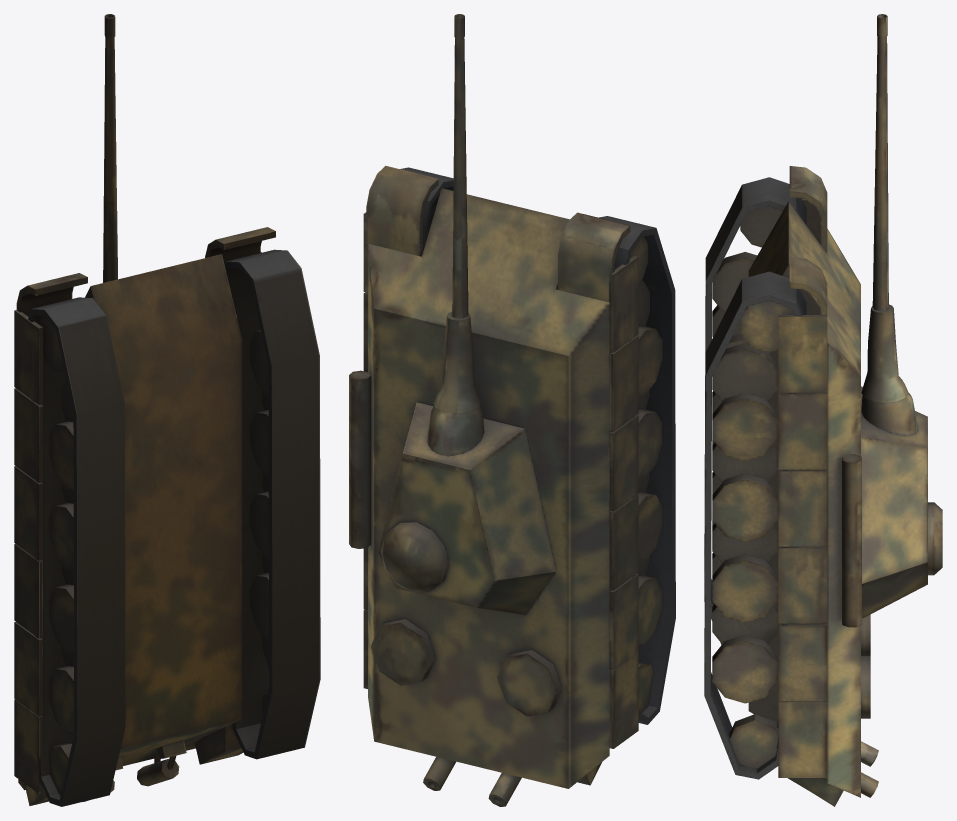
Rendered from PantherII.fbx.
3 renders of one model, left to right at view 1: azimuth 30°, elevation 25°; view 2: azimuth 150°, elevation 25°; view 3: azimuth 270°, elevation 25°, orthographic. The views are drawn at different scales.
Visible parts, largest first — view 1: PantherII Body, PantherII Turret; view 2: PantherII Body, PantherII Turret; view 3: PantherII Body, PantherII Turret.
Part boxes in pixels (box(x1,y1,x2,y2)): PantherII Body: box(14, 227, 320, 806); PantherII Turret: box(103, 14, 117, 282); PantherII Body: box(349, 165, 675, 806); PantherII Turret: box(378, 14, 555, 614); PantherII Body: box(704, 166, 878, 806); PantherII Turret: box(861, 14, 942, 618).
Bounding box in the file's own units: 133 × 401 × 113.
